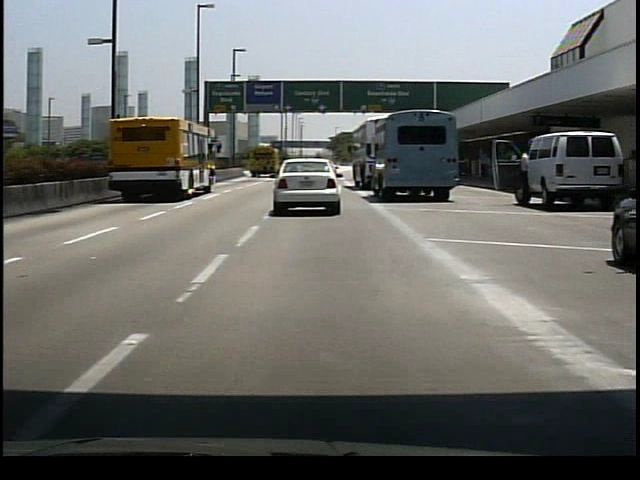person: (516, 138, 534, 214)
